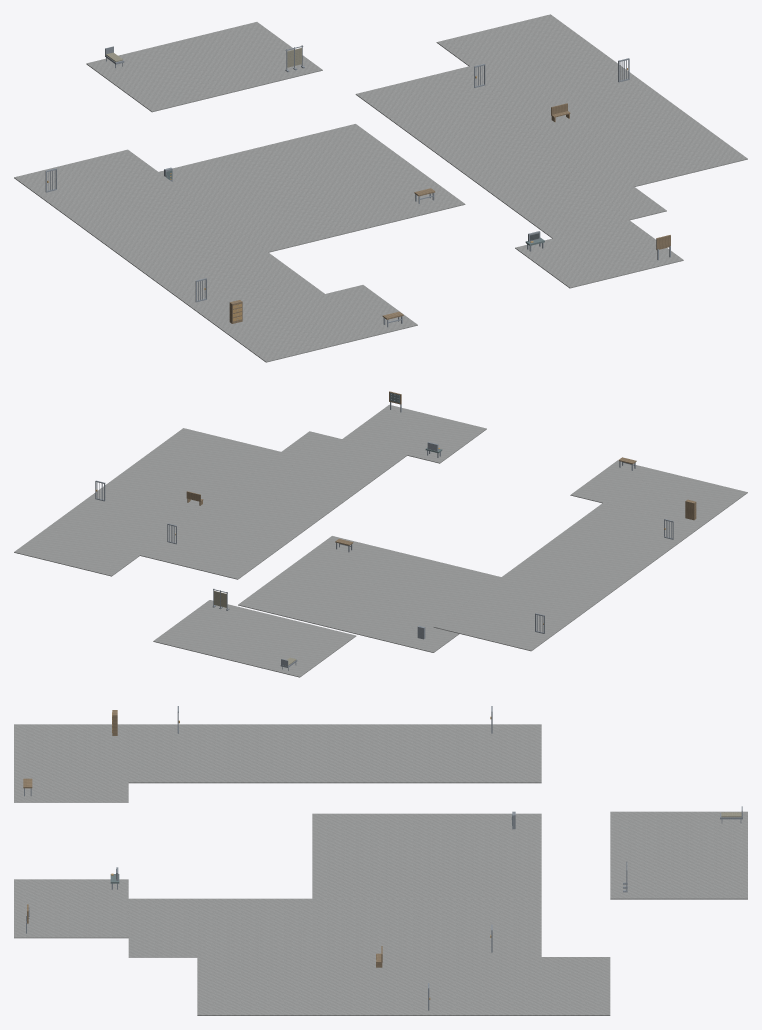
File: prison.glb
The picture shows the model from 3 angles, top to bottom: view 1: azimuth 30°, elevation 25°; view 2: azimuth 150°, elevation 25°; view 3: azimuth 270°, elevation 25°; orthographic projection. The views are drawn at different scales.
Visible parts, largest first — view 1: review_fit_prison; view 2: review_fit_prison; view 3: review_fit_prison.
Boxes of the visible parts, x1=… form: review_fit_prison: x1=14, y1=14, x2=747, y2=362; review_fit_prison: x1=14, y1=391, x2=747, y2=677; review_fit_prison: x1=14, y1=706, x2=747, y2=1015.
Size of the model in its own units: 60 by 5.27 by 64.
7 materials, 7 textured.
